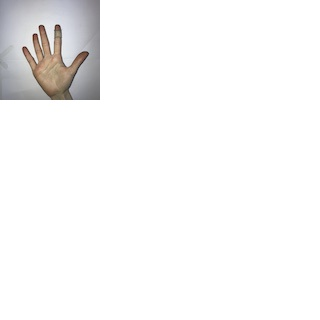paper: (16, 19, 88, 96)
